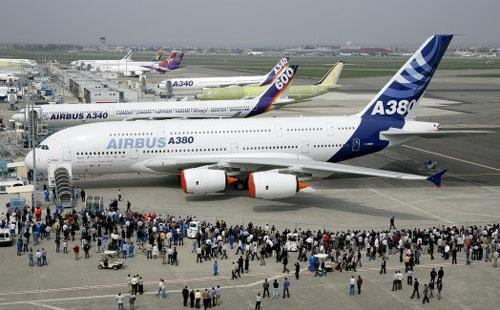airplane: (32, 36, 472, 204), (16, 64, 299, 129), (157, 56, 343, 93), (71, 51, 184, 72)
